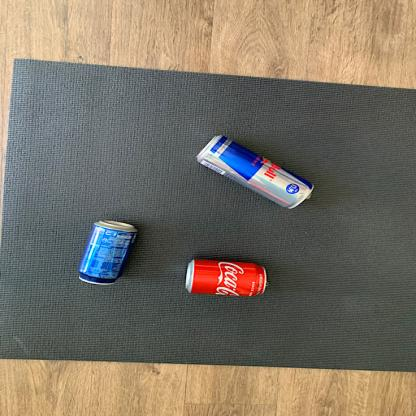trash: (195, 135, 320, 213), (77, 222, 140, 287), (182, 257, 271, 302)
